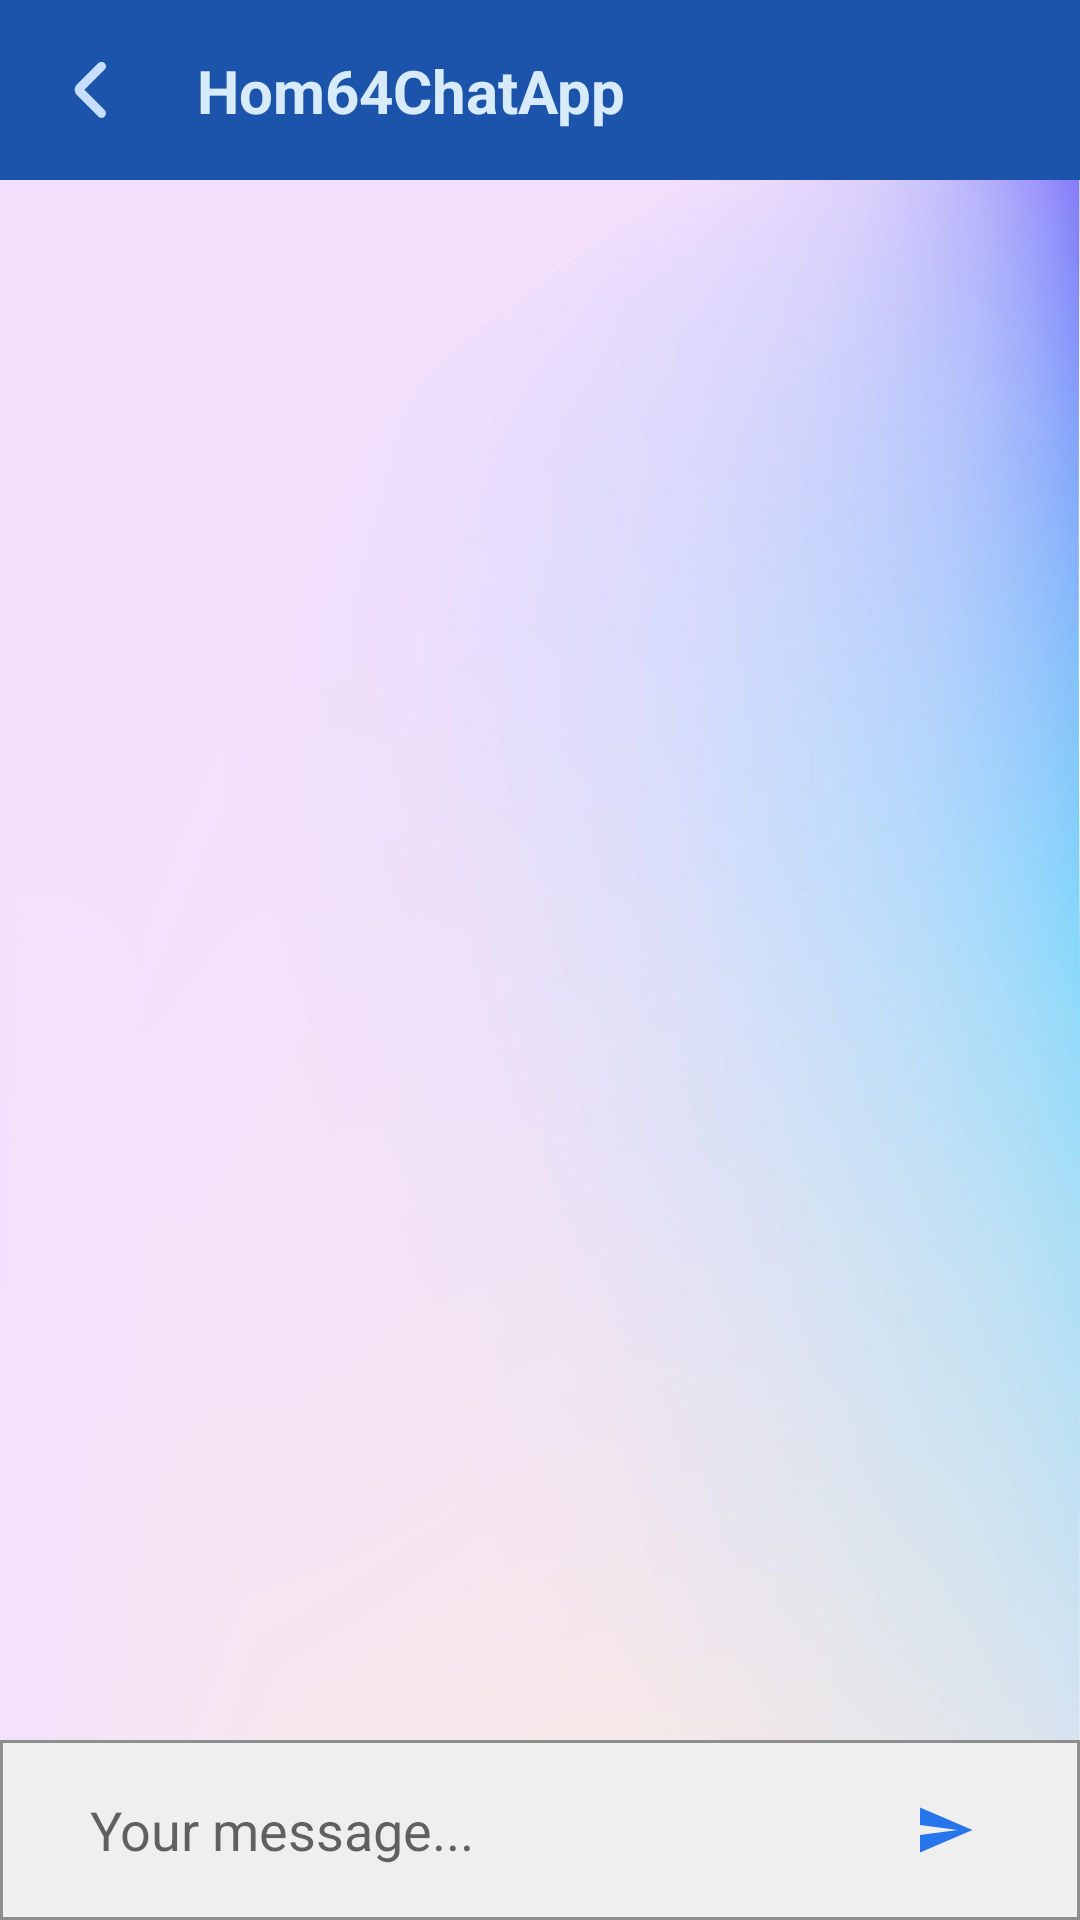

Where icons sit on this 1080px x 1920px app screen, as (x1=x1, y1=y1, x2=x2, y2=y2):
back: (x1=74, y1=62, x2=106, y2=118)
send: (x1=920, y1=1807, x2=972, y2=1853)
